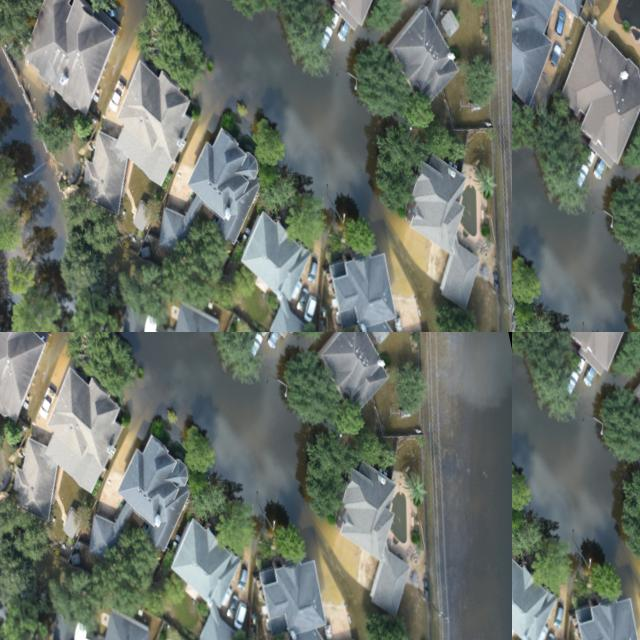fire: (330, 0, 512, 332), (512, 0, 640, 332), (512, 355, 619, 561)
